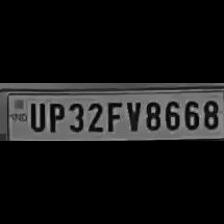2: (85, 99, 103, 133)
3: (64, 99, 84, 133)
6: (162, 97, 180, 130), (181, 97, 199, 130)
8: (142, 98, 162, 132), (199, 97, 219, 130)
F: (104, 97, 122, 132)
P: (46, 100, 64, 132)
U: (26, 100, 44, 132)
V: (122, 97, 142, 132)
